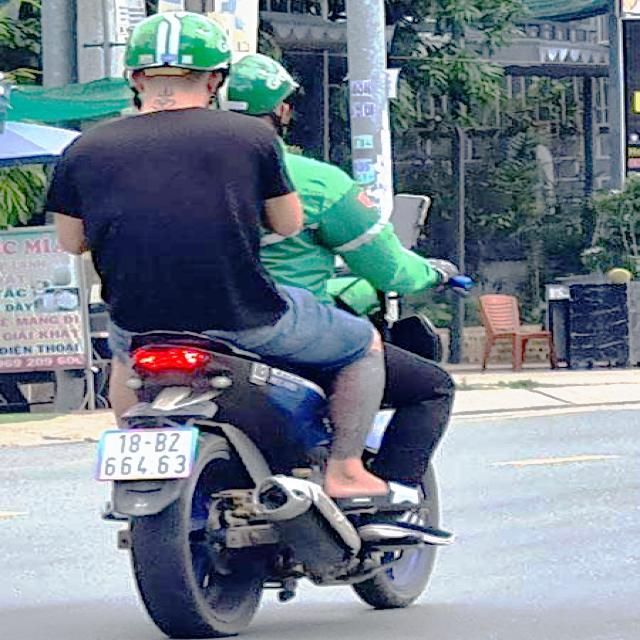license_plate: (102, 430, 196, 478)
